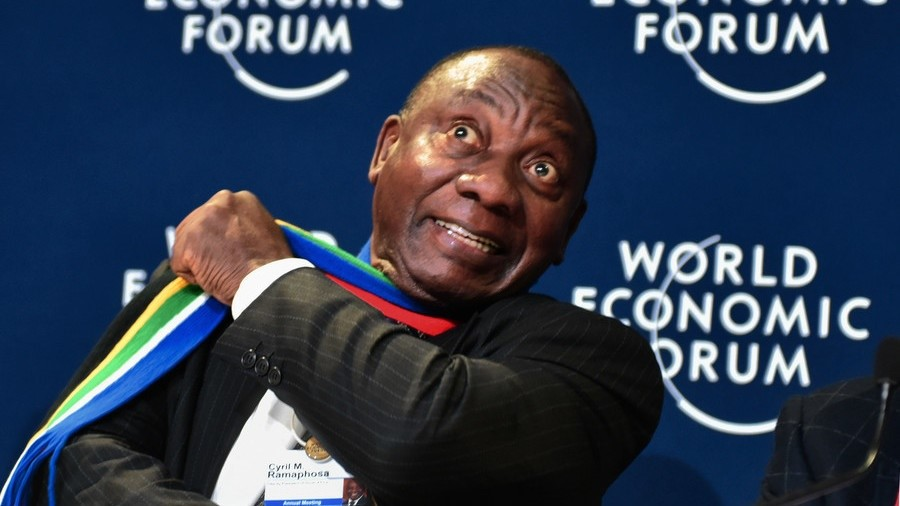face_no_mask: (371, 44, 592, 311)
